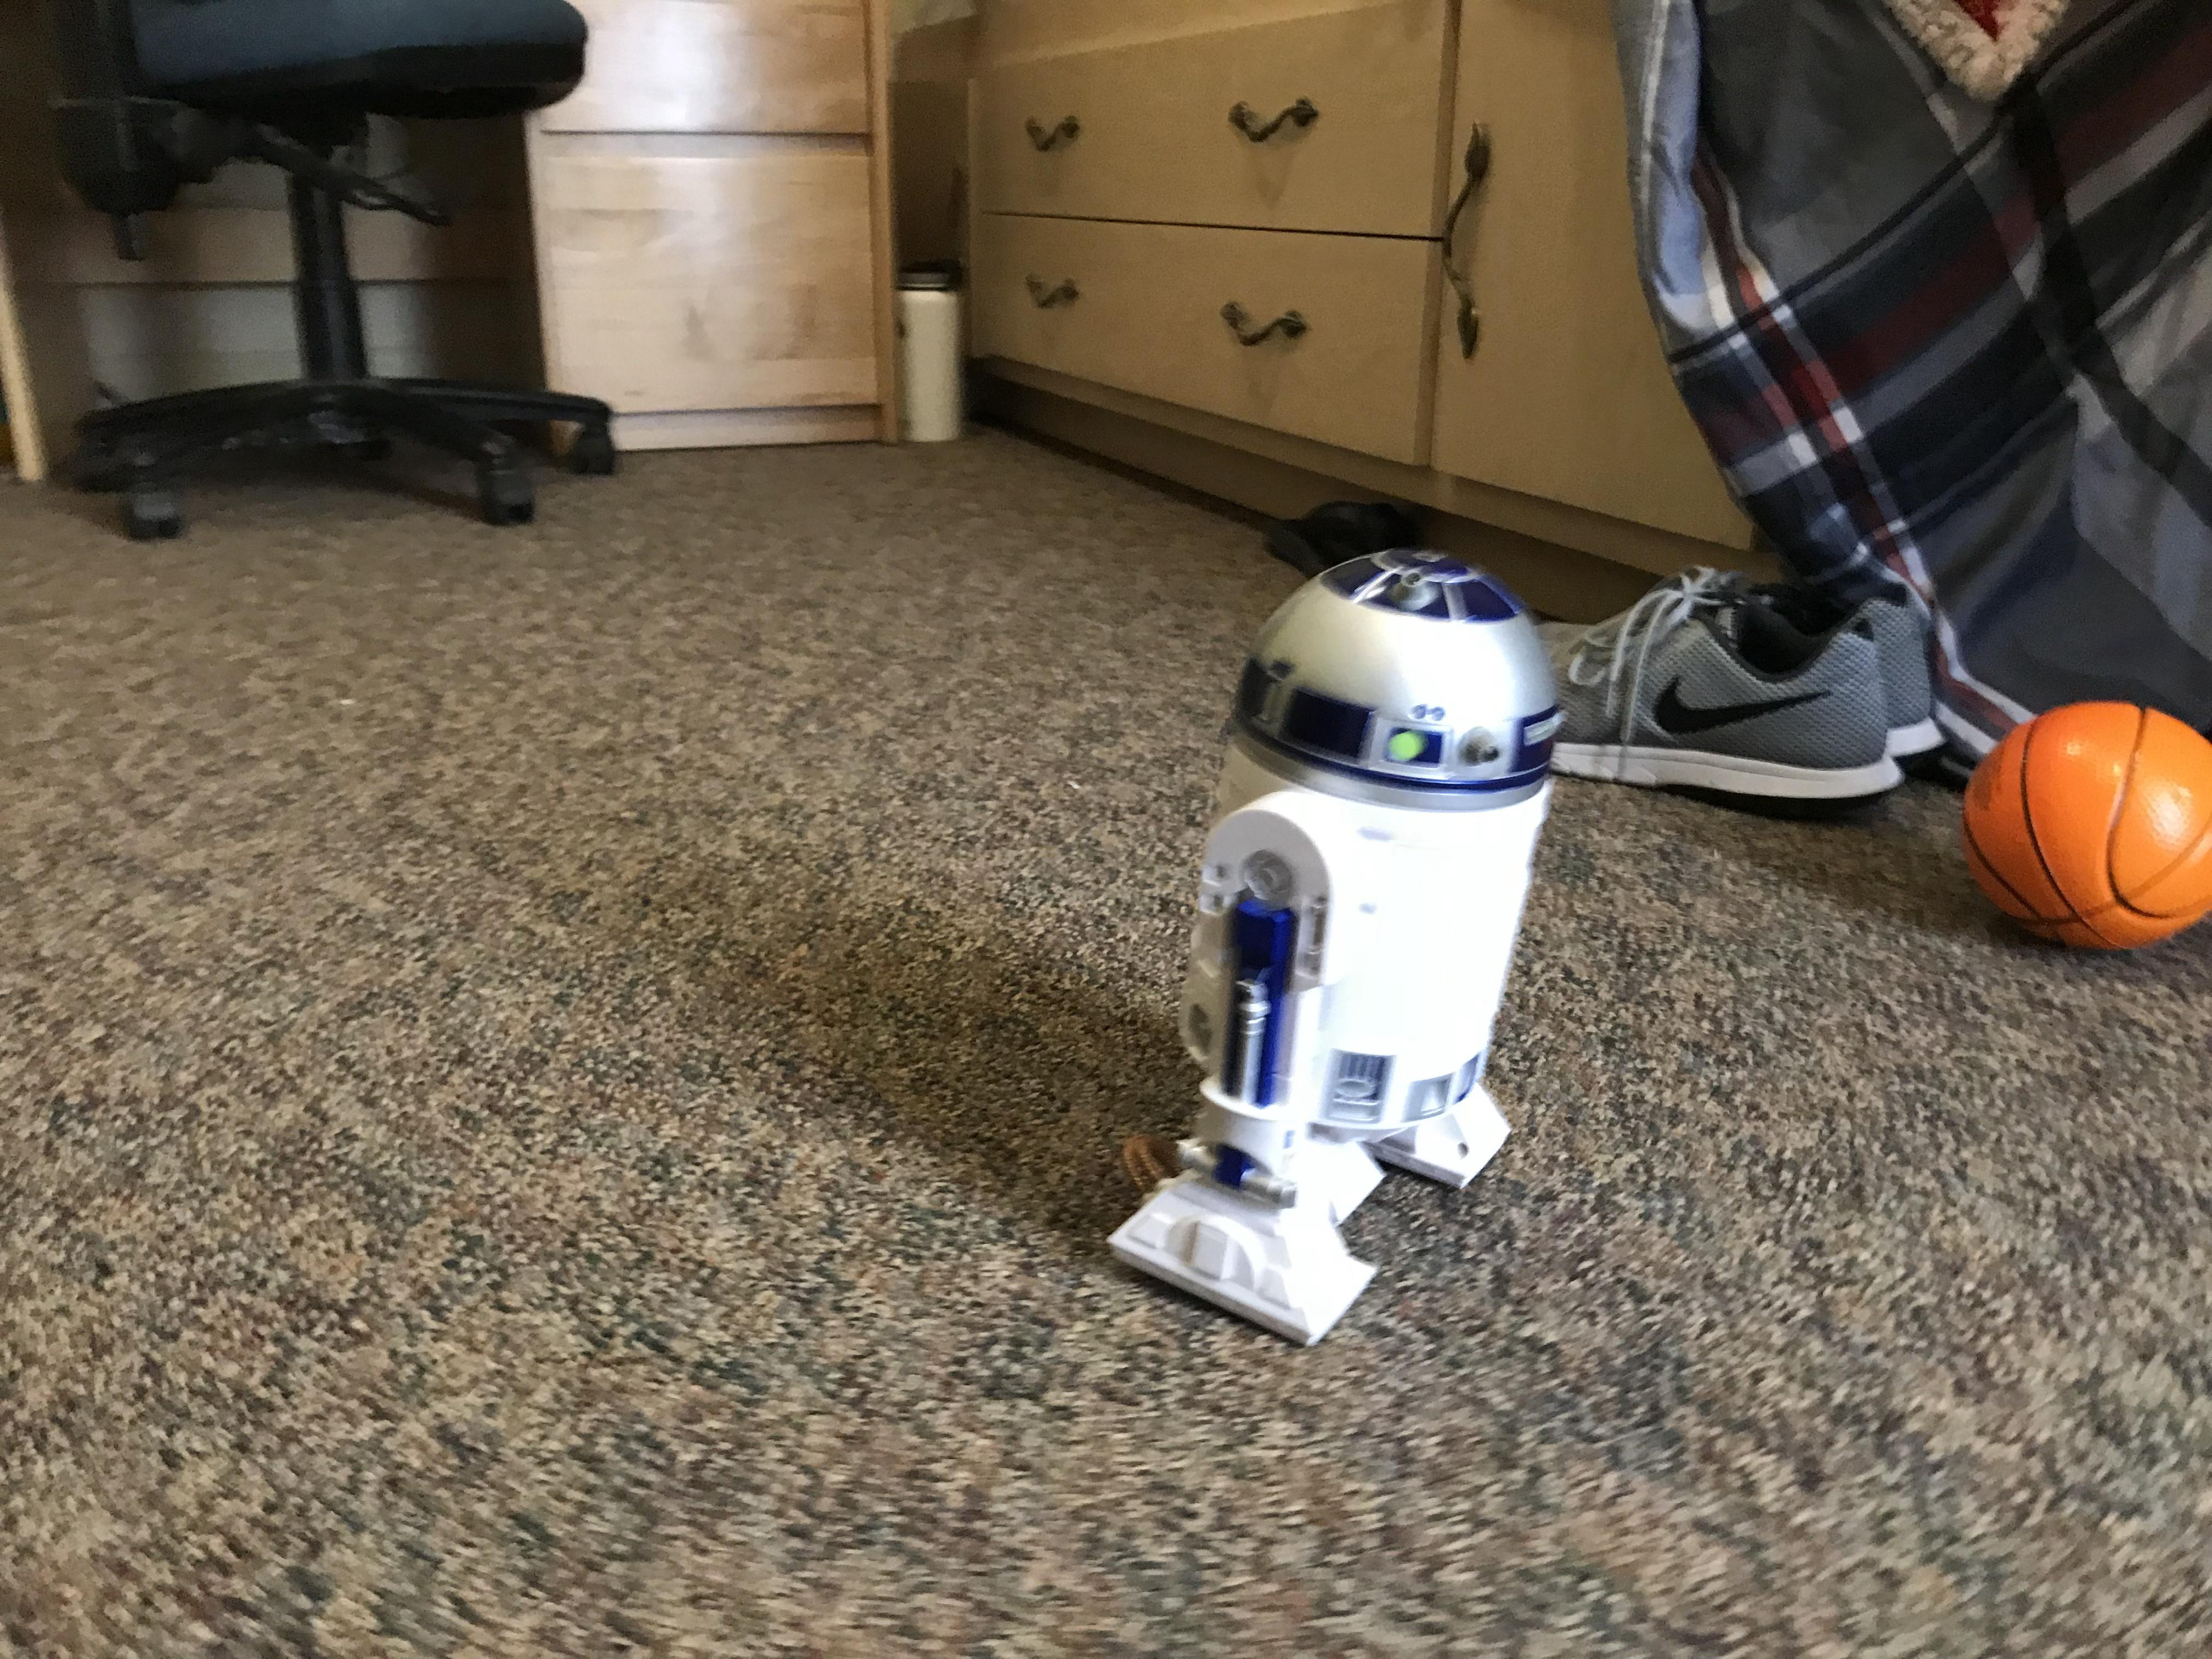r2d2: (1111, 544, 1555, 1347)
